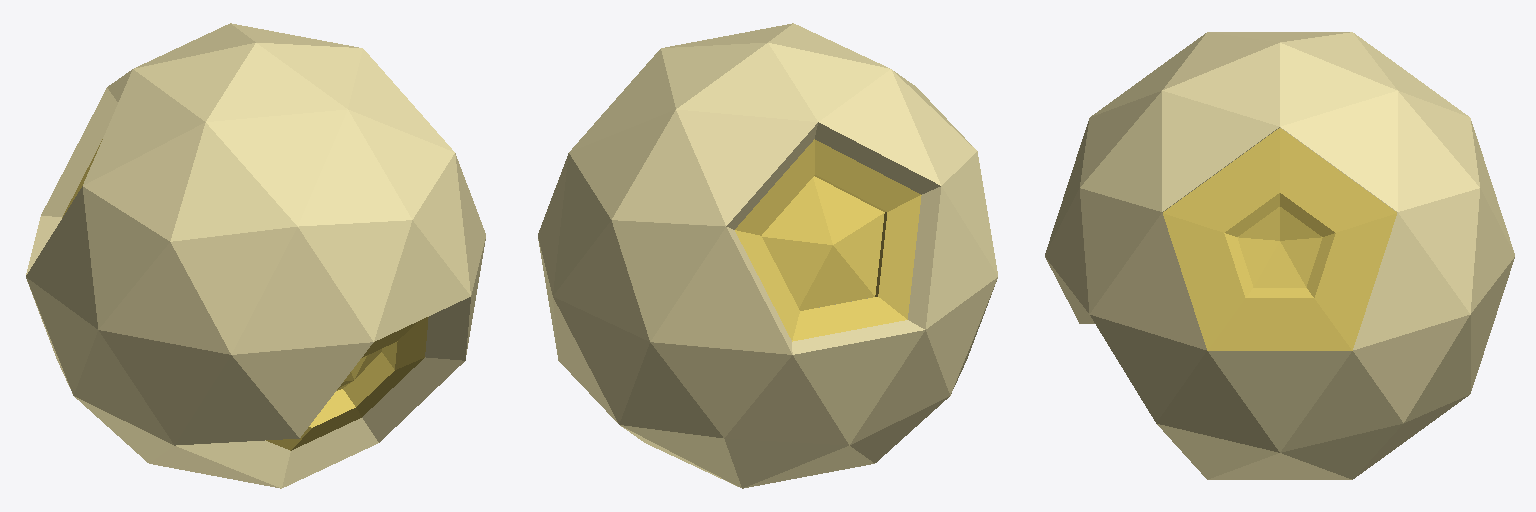
The picture shows the model from 3 angles: view 1: azimuth 30°, elevation 25°; view 2: azimuth 150°, elevation 25°; view 3: azimuth 270°, elevation 25°; orthographic projection.
Parts seen in each view (by area): view 1: Icosphere; view 2: Icosphere; view 3: Icosphere.
Part boxes in pixels (x1,y1,x2,y2): Icosphere: (26,23,485,488); Icosphere: (538,23,997,488); Icosphere: (1045,32,1514,479).
Bounding box in the file's own units: 3.42 × 3.6 × 3.6.
Materials: 1 (1 with a texture image).